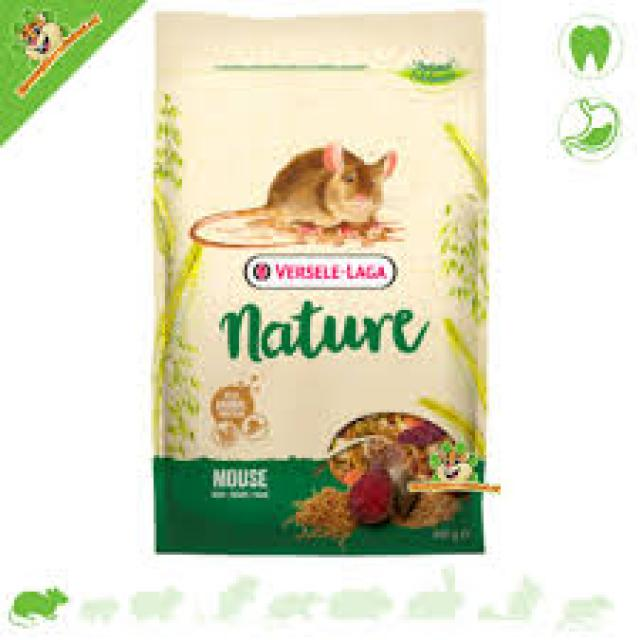rat: (191, 139, 398, 242)
